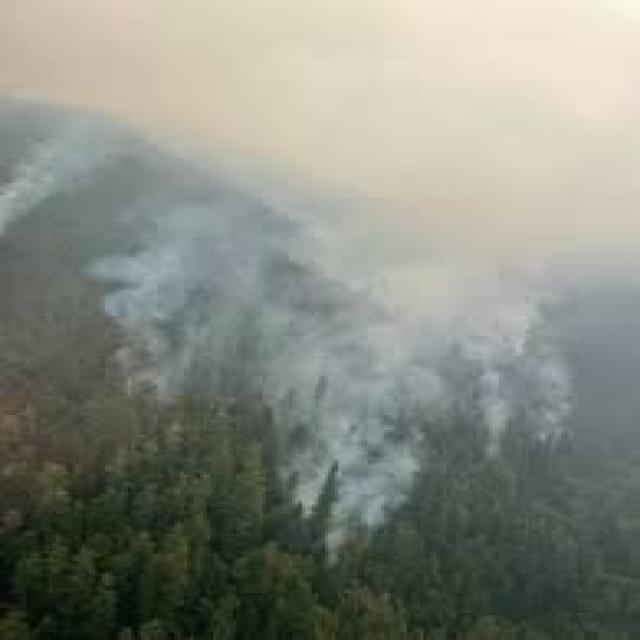Smoke: (94, 172, 602, 452), (158, 0, 640, 254), (0, 0, 634, 156), (180, 178, 594, 372), (270, 104, 440, 564), (190, 0, 558, 135)
